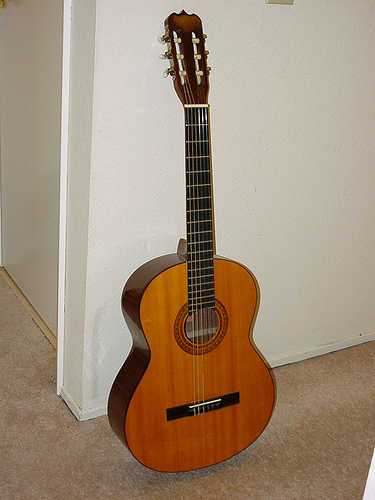guitar: (107, 10, 278, 474)
